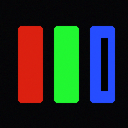4 line_v: (101, 38, 107, 90)
